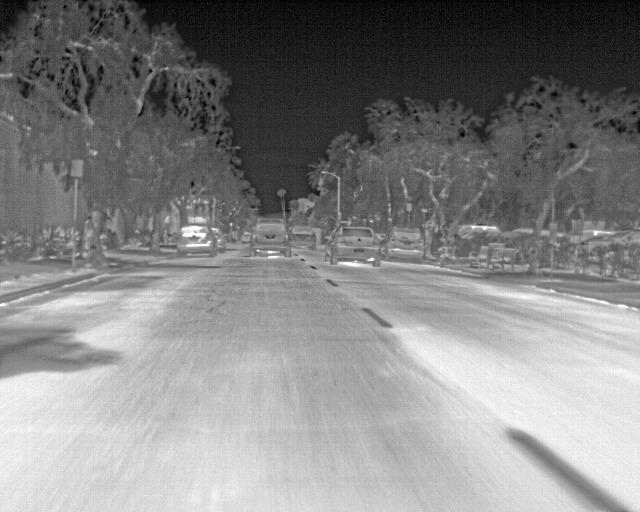car: (325, 226, 381, 267), (248, 218, 292, 257), (381, 227, 424, 263), (177, 225, 218, 259), (288, 225, 317, 251), (211, 227, 227, 253), (241, 233, 252, 243)
light: (338, 212, 341, 220)
sign: (70, 160, 83, 178), (549, 223, 557, 236), (407, 203, 412, 211), (422, 209, 428, 213)
